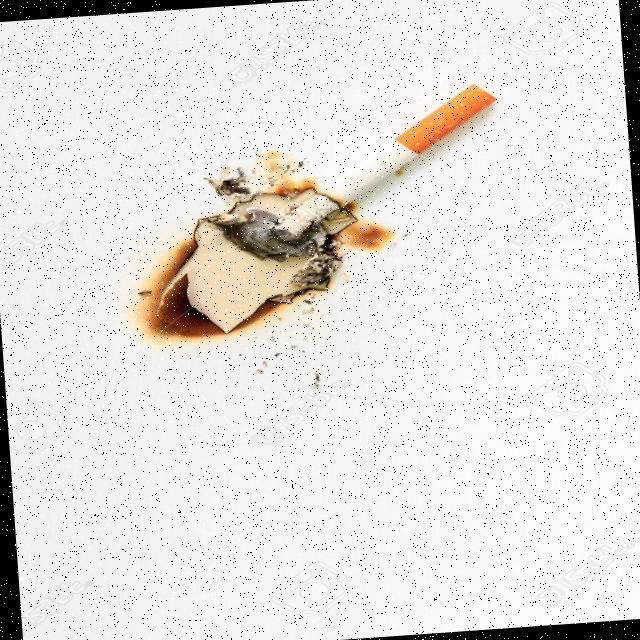cigarette: (262, 78, 522, 245)
